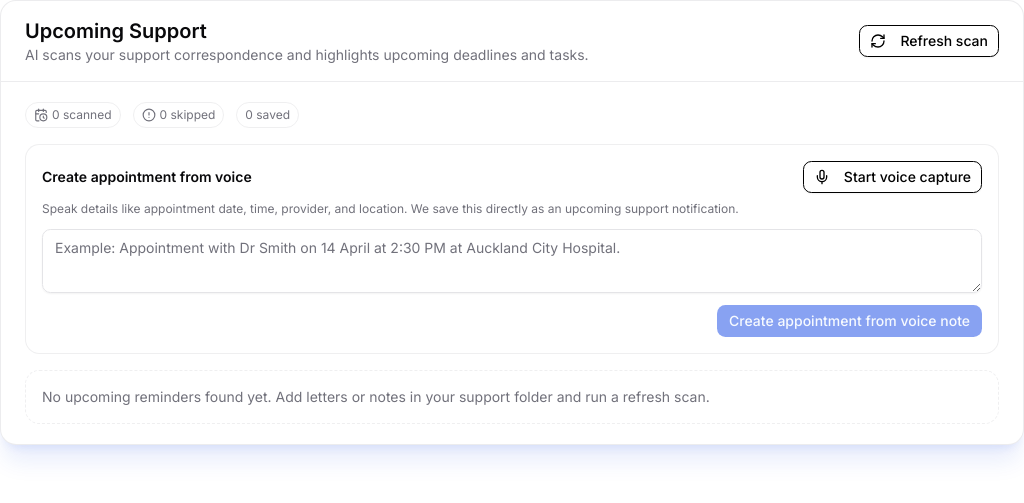
UpcomingSupportCard › creates appointment note from voice draft
Replace the text in the text box with placeholder "Example: Appointment with Dr Smith on 14 April at 2:30 PM at Auckland City Hospital." with "Appointment with GP on 10 April at 9 AM.". click: {"x": 512, "y": 261}
box: [42,229,982,293]
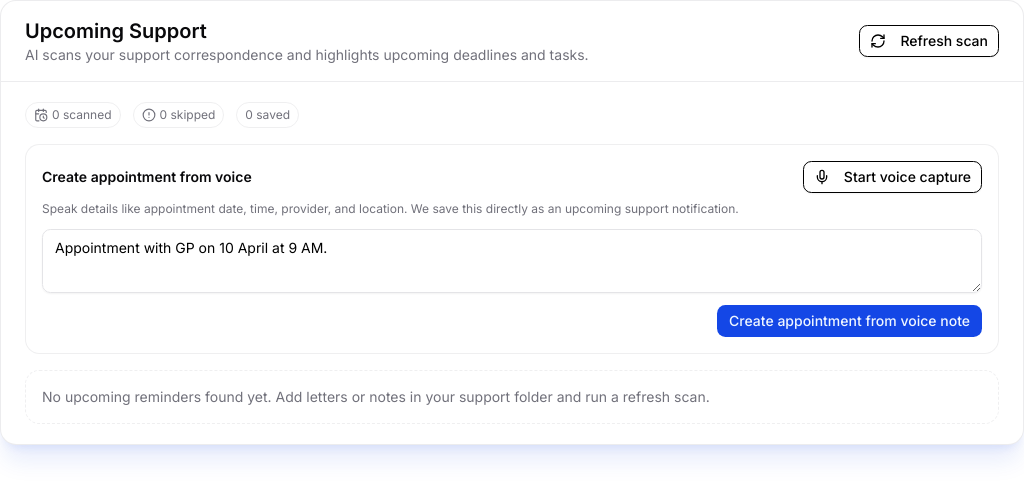
Click the button "Create appointment from voice note". click: {"x": 850, "y": 321}
box: [717,305,982,337]
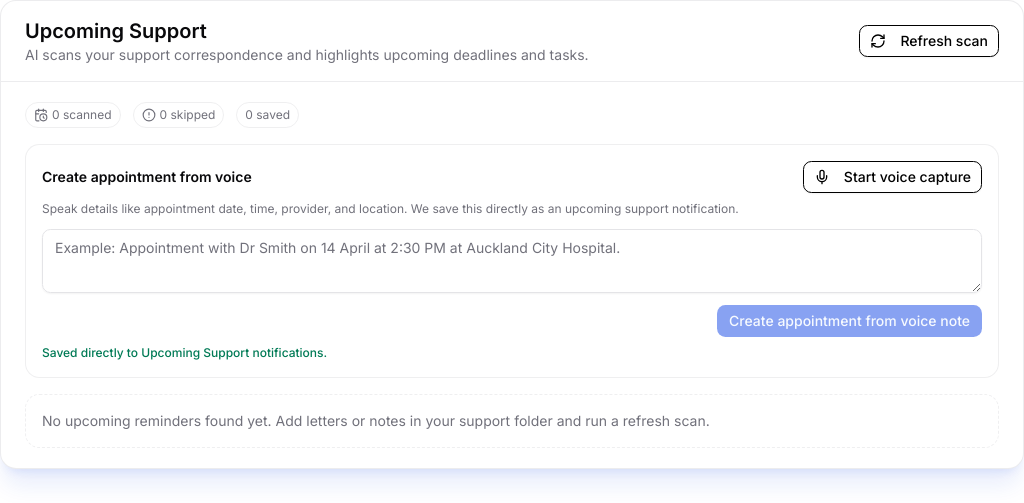
Now the text "Saved directly to Upcoming Support notifications." is shown, box [42,345,327,360]
